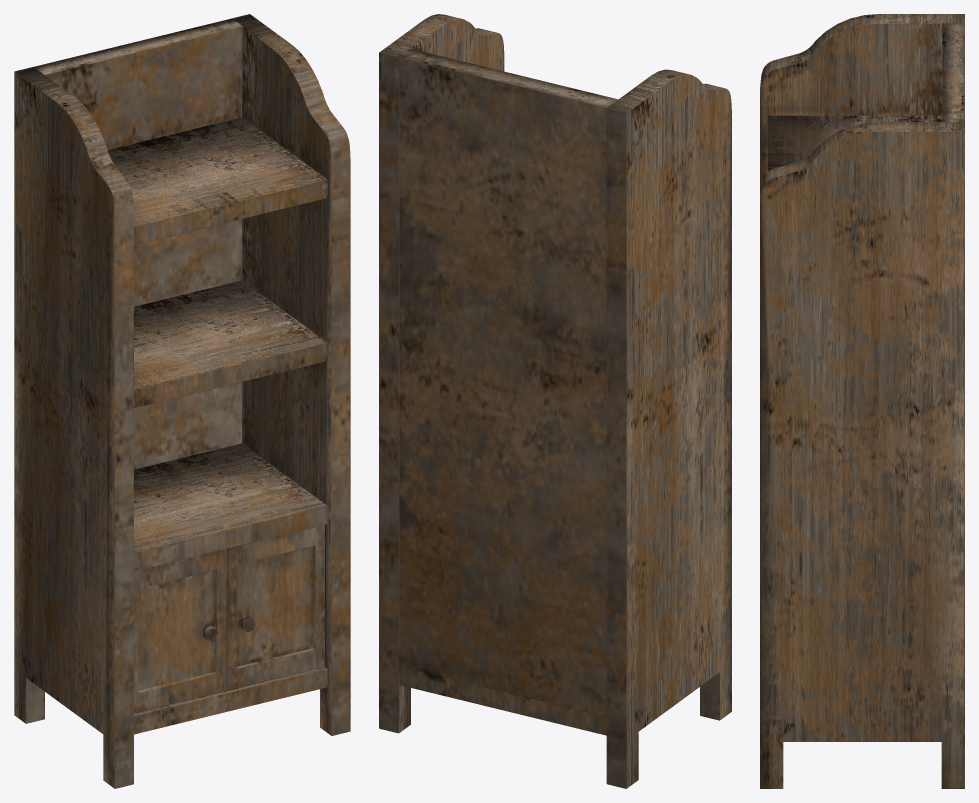
File: old_bathroom_cabinet_with_weathered_wood_texture.glb
3 renders of one model, left to right at view 1: azimuth 30°, elevation 25°; view 2: azimuth 150°, elevation 25°; view 3: azimuth 270°, elevation 25°, orthographic. The views are drawn at different scales.
Parts seen in each view (by area): view 1: LACI; view 2: LACI; view 3: LACI.
Boxes of the visible parts, box(x1,y1,x2,y2) form: LACI: box(14, 14, 350, 788); LACI: box(379, 14, 731, 788); LACI: box(760, 14, 964, 788).
Size of the model in its own units: 2.72 by 7.08 by 2.
1 material, 1 textured.
